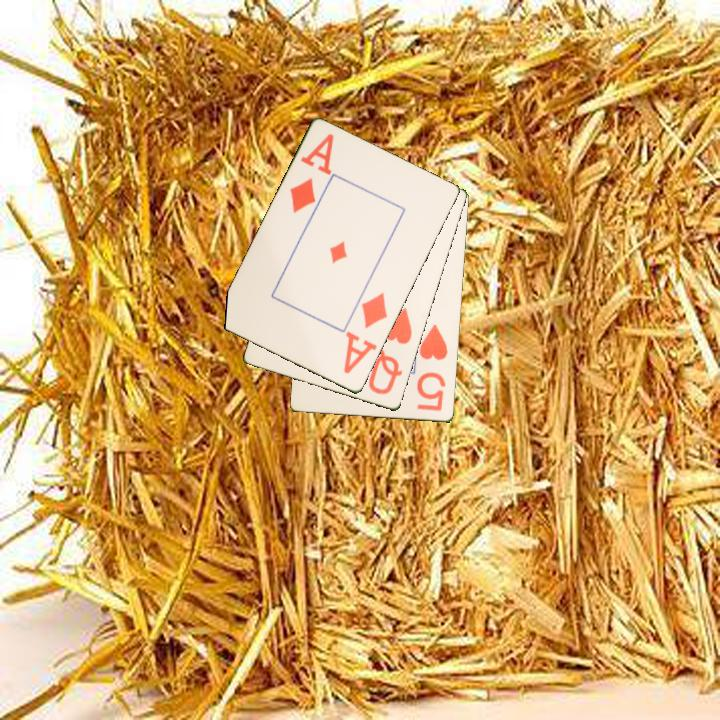5h: (414, 321, 451, 414)
Ad: (340, 289, 391, 377), (286, 130, 337, 217)
Qh: (365, 305, 415, 398)
